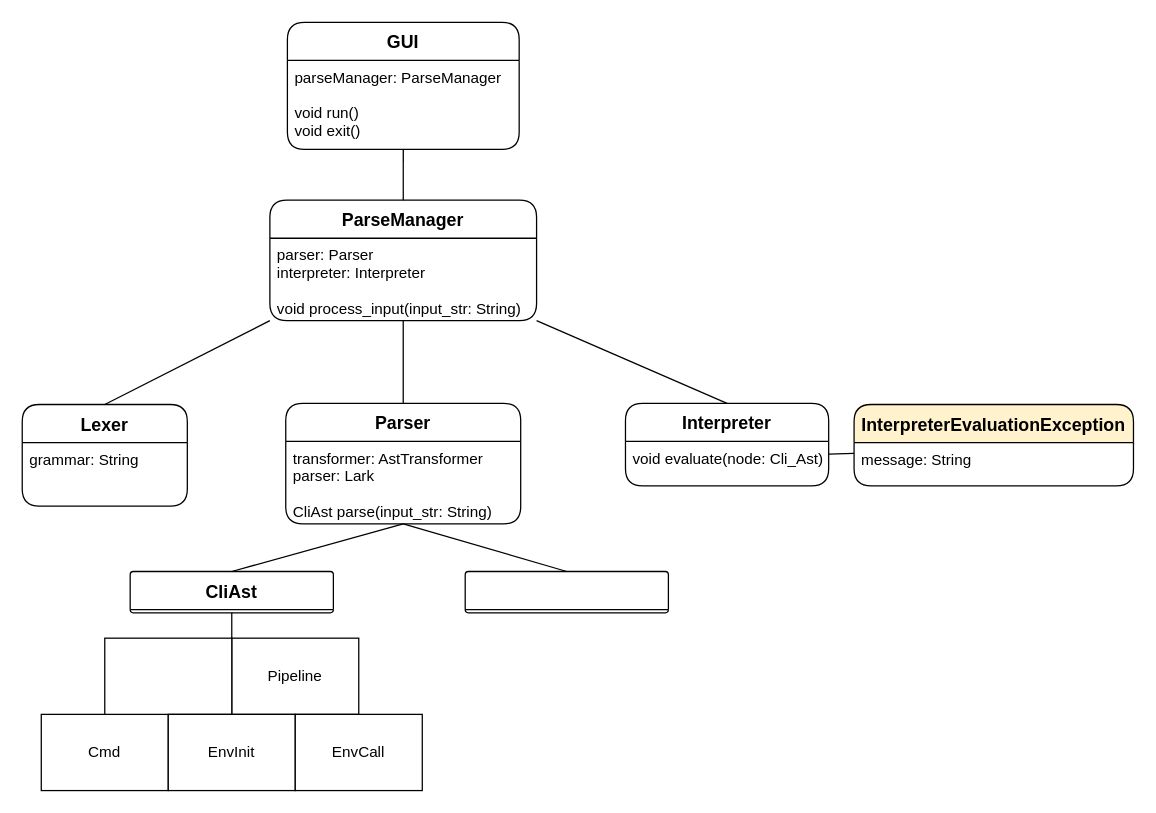
This 1156x813 diagram has some shape labels left out. Each missing label, with the centre of its shape:
"Args" goes at pixel 168 675.
"AstTransformer" goes at pixel 566 591.
